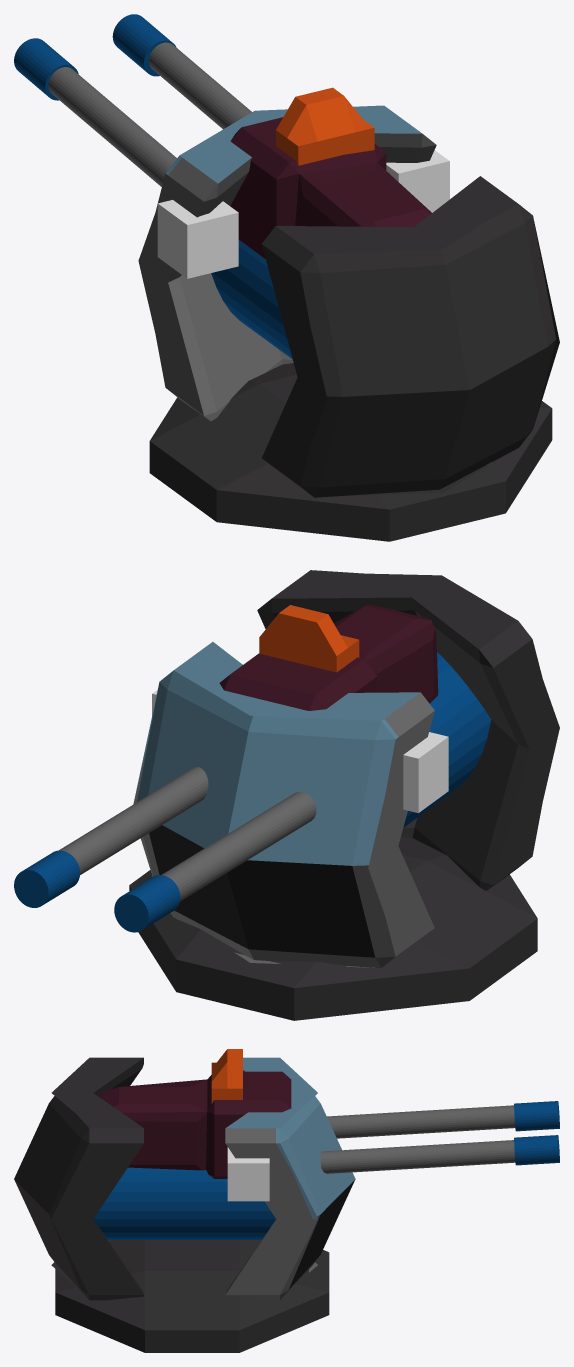
Rendered from tank.fbx.
The picture shows the model from 3 angles, top to bottom: view 1: azimuth 30°, elevation 25°; view 2: azimuth 150°, elevation 25°; view 3: azimuth 270°, elevation 25°; orthographic projection. The views are drawn at different scales.
Parts seen in each view (by area): view 1: Cube.006, Cube.007, Cube, Cube.003, Cube.002, Cylinder.000, Cylinder, Cylinder.001, Cube.005, Cube.001, Cube.004, Cylinder.003 (+1 smaller); view 2: Cube, Cube.006, Cube.007, Cube.003, Cylinder.000, Cylinder.001, Cylinder, Cube.002, Cube.005, Cylinder.002, Cylinder.003, Cube.004; view 3: Cube.007, Cube.006, Cube, Cube.003, Cylinder, Cylinder.001, Cylinder.000, Cube.001, Cylinder.003, Cylinder.002, Cube.004.
Boxes of the visible parts, left/top/right/bottom form: Cube.006: left=261, top=176, right=559, bottom=497; Cube.007: left=149, top=363, right=552, bottom=541; Cube: left=138, top=105, right=436, bottom=421; Cube.003: left=230, top=117, right=431, bottom=259; Cube.002: left=157, top=200, right=238, bottom=278; Cylinder.000: left=48, top=67, right=176, bottom=186; Cylinder: left=211, top=240, right=292, bottom=358; Cylinder.001: left=149, top=42, right=251, bottom=129; Cube.005: left=276, top=92, right=336, bottom=165; Cube.001: left=386, top=150, right=449, bottom=212; Cube.004: left=314, top=87, right=374, bottom=156; Cylinder.003: left=112, top=14, right=176, bottom=76; Cube: left=133, top=642, right=434, bottom=968; Cube.006: left=257, top=570, right=559, bottom=890; Cube.007: left=129, top=837, right=537, bottom=1020; Cube.003: left=219, top=604, right=438, bottom=710; Cylinder.000: left=162, top=792, right=316, bottom=901; Cylinder.001: left=59, top=767, right=208, bottom=874; Cylinder: left=403, top=652, right=490, bottom=827; Cube.002: left=403, top=732, right=448, bottom=813; Cube.005: left=297, top=610, right=359, bottom=672; Cylinder.002: left=114, top=875, right=180, bottom=932; Cylinder.003: left=14, top=850, right=80, bottom=907; Cube.004: left=259, top=605, right=309, bottom=662; Cube.007: left=55, top=1240, right=329, bottom=1352; Cube.006: left=14, top=1057, right=143, bottom=1300; Cube: left=225, top=1057, right=355, bottom=1300; Cube.003: left=99, top=1071, right=291, bottom=1178; Cylinder: left=93, top=1167, right=275, bottom=1239; Cylinder.001: left=320, top=1140, right=515, bottom=1173; Cylinder.000: left=327, top=1105, right=515, bottom=1138; Cube.001: left=227, top=1147, right=269, bottom=1201; Cylinder.003: left=514, top=1135, right=559, bottom=1165; Cylinder.002: left=514, top=1101, right=559, bottom=1131; Cube.004: left=211, top=1055, right=242, bottom=1103.
Size of the model in its own units: 288 by 303 by 575.
